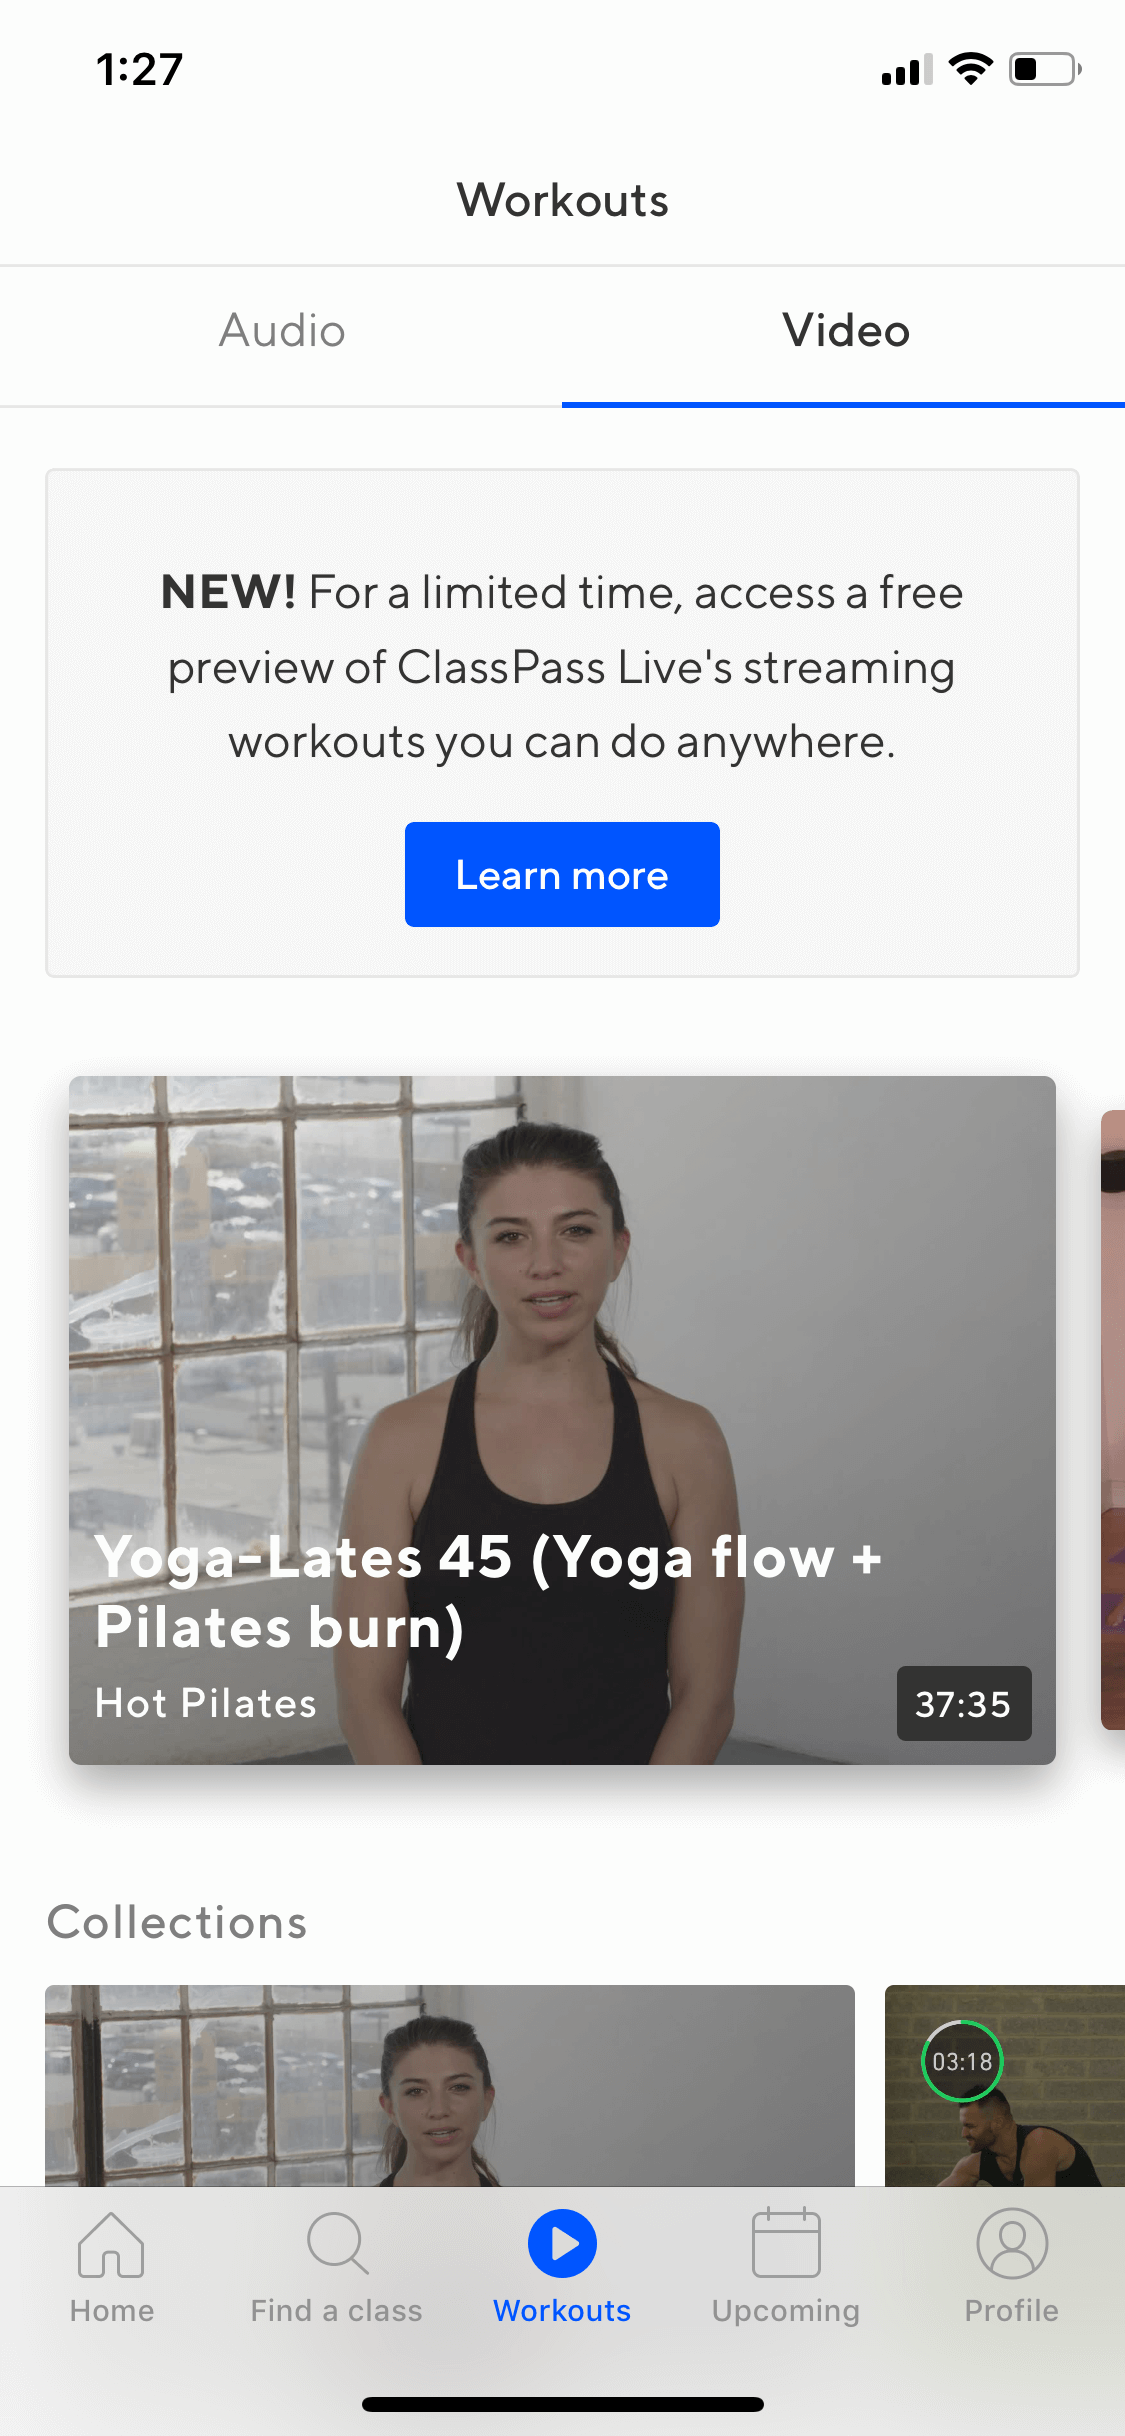Buttons: (388, 803, 737, 948)
